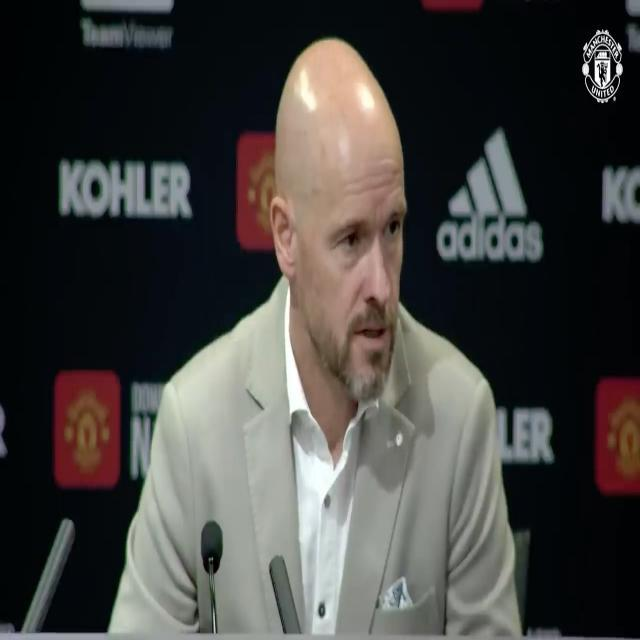Adidas: (436, 128, 542, 262)
Kohler: (59, 160, 192, 220)
TeamViewer: (82, 0, 174, 50)
